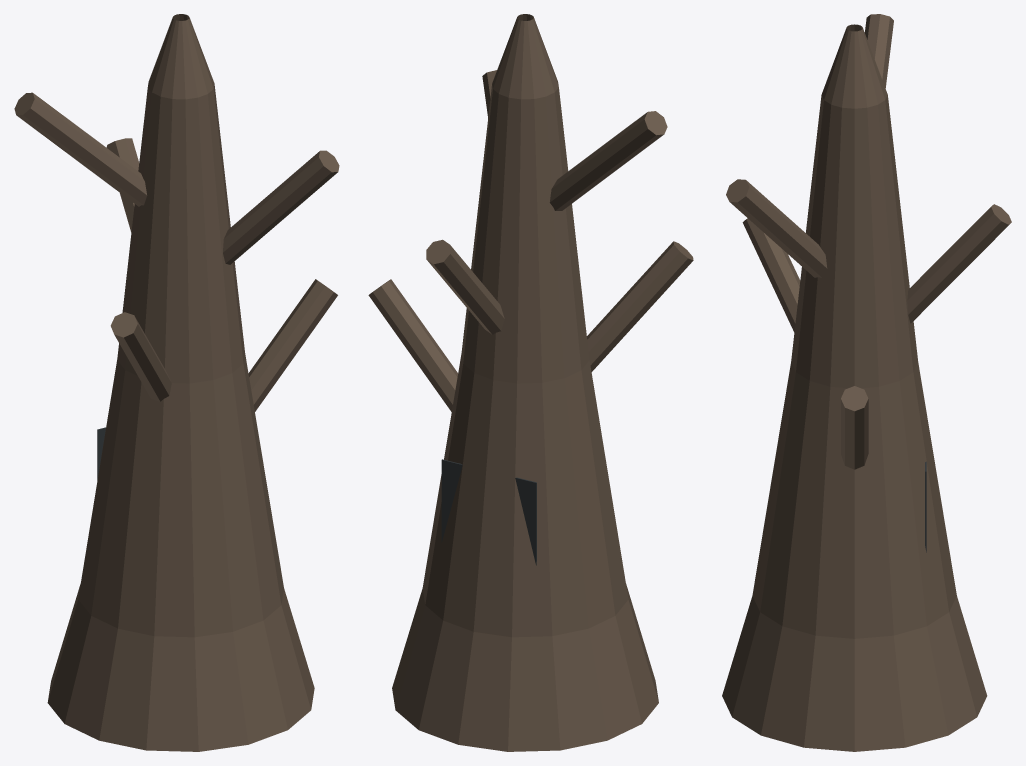
File: P022-blockout-v1.glb
The picture shows the model from 3 angles, left to right: view 1: azimuth 30°, elevation 25°; view 2: azimuth 150°, elevation 25°; view 3: azimuth 270°, elevation 25°; orthographic projection.
Parts seen in each view (by area): view 1: 焦黑樹幹, 分枝 (×5); view 2: 焦黑樹幹, 分枝 (×4), 樹洞暗面; view 3: 焦黑樹幹, 分枝 (×5).
Boxes of the visible parts, left/top/right/bottom form: 焦黑樹幹: left=47, top=14, right=314, bottom=751; 分枝 (×5): left=14, top=92, right=339, bottom=411; 焦黑樹幹: left=392, top=14, right=658, bottom=751; 分枝 (×4): left=368, top=111, right=693, bottom=411; 樹洞暗面: left=441, top=459, right=536, bottom=565; 焦黑樹幹: left=722, top=24, right=987, bottom=751; 分枝 (×5): left=726, top=14, right=1011, bottom=469.
Bounding box in the file's own units: 2.27 × 4.8 × 1.89.
